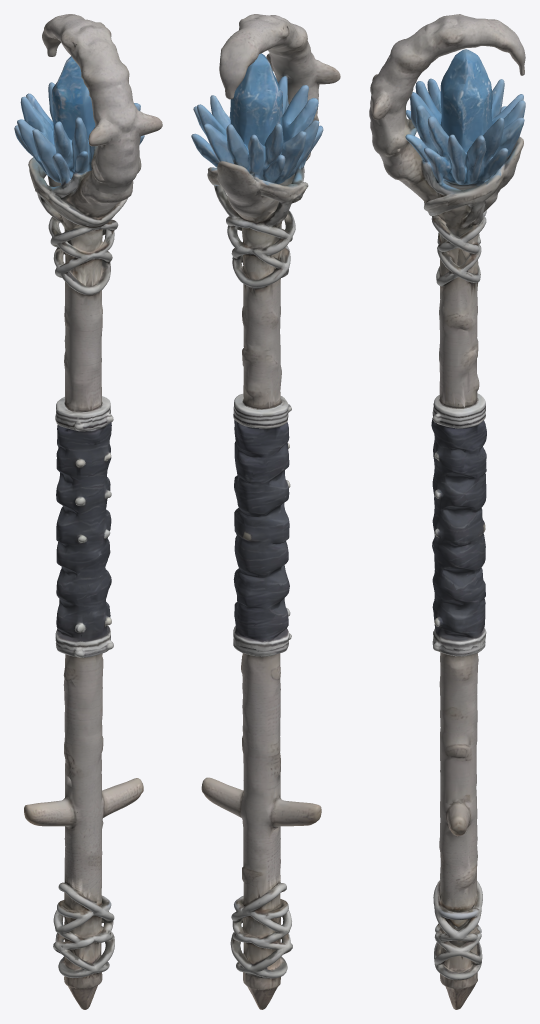
The model's file is staff_frost.glb.
The picture shows the model from 3 angles, left to right: view 1: azimuth 30°, elevation 25°; view 2: azimuth 150°, elevation 25°; view 3: azimuth 270°, elevation 25°; orthographic projection.
Visible parts, largest first — view 1: weapon; view 2: weapon; view 3: weapon.
Boxes of the visible parts, x1=… form: weapon: x1=14, y1=14, x2=162, y2=1009; weapon: x1=191, y1=14, x2=340, y2=1009; weapon: x1=369, y1=14, x2=525, y2=1009.
Bounding box in the file's own units: 0.1237 × 1 × 0.1433.
1 material, 1 textured.
